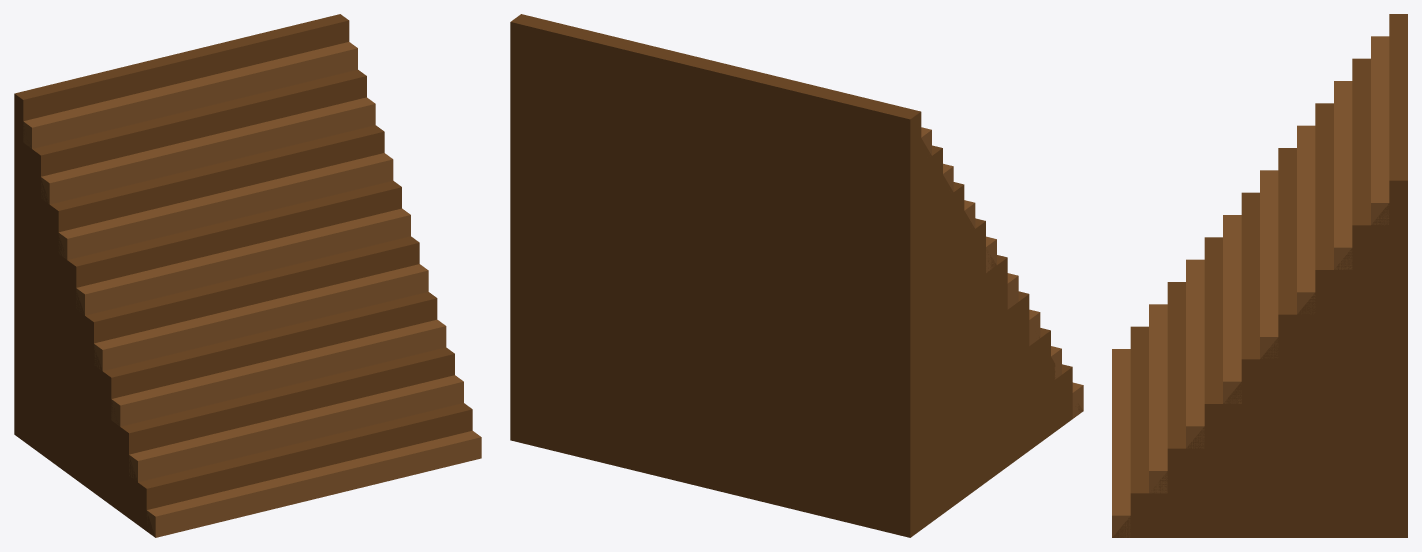
File: Ramp.obj
3 renders of one model, left to right at view 1: azimuth 30°, elevation 25°; view 2: azimuth 150°, elevation 25°; view 3: azimuth 270°, elevation 25°, orthographic. The views are drawn at different scales.
Size of the model in its own units: 512 by 512 by 384.
